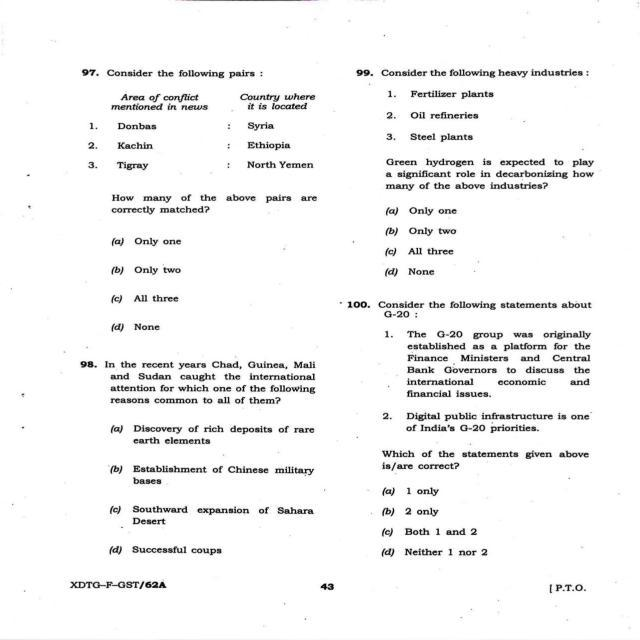Answer_Block: (56, 419, 330, 572), (56, 225, 330, 339), (332, 194, 601, 282), (332, 484, 601, 572)
Question_Answer_Block: (56, 59, 330, 339), (332, 294, 601, 572), (56, 351, 330, 571), (332, 59, 601, 282)
Question_Block: (332, 294, 601, 476), (56, 58, 330, 224), (332, 59, 601, 192), (56, 352, 330, 412)
Question_Paper_Area: (56, 59, 604, 572)
